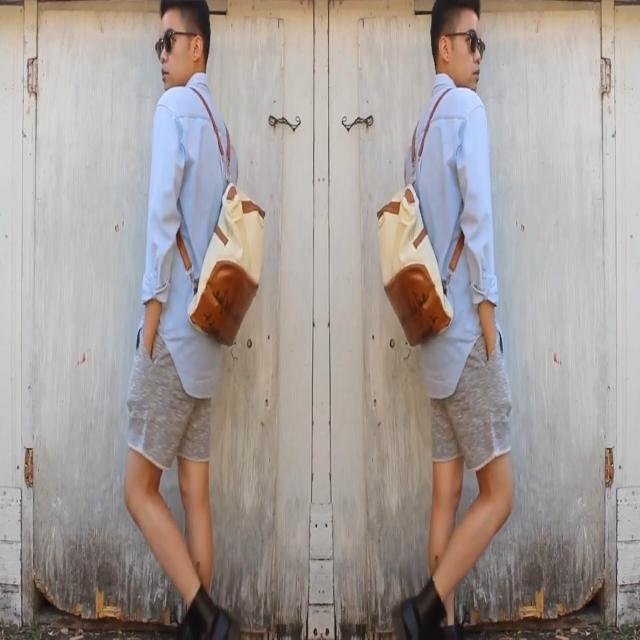Shirt: (134, 69, 238, 398), (403, 70, 503, 401)
